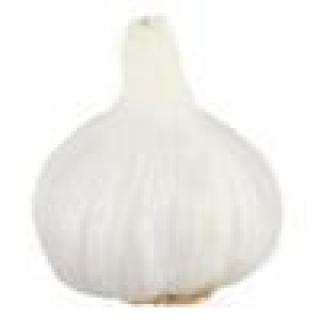Bawang Putih: (33, 17, 295, 302)
